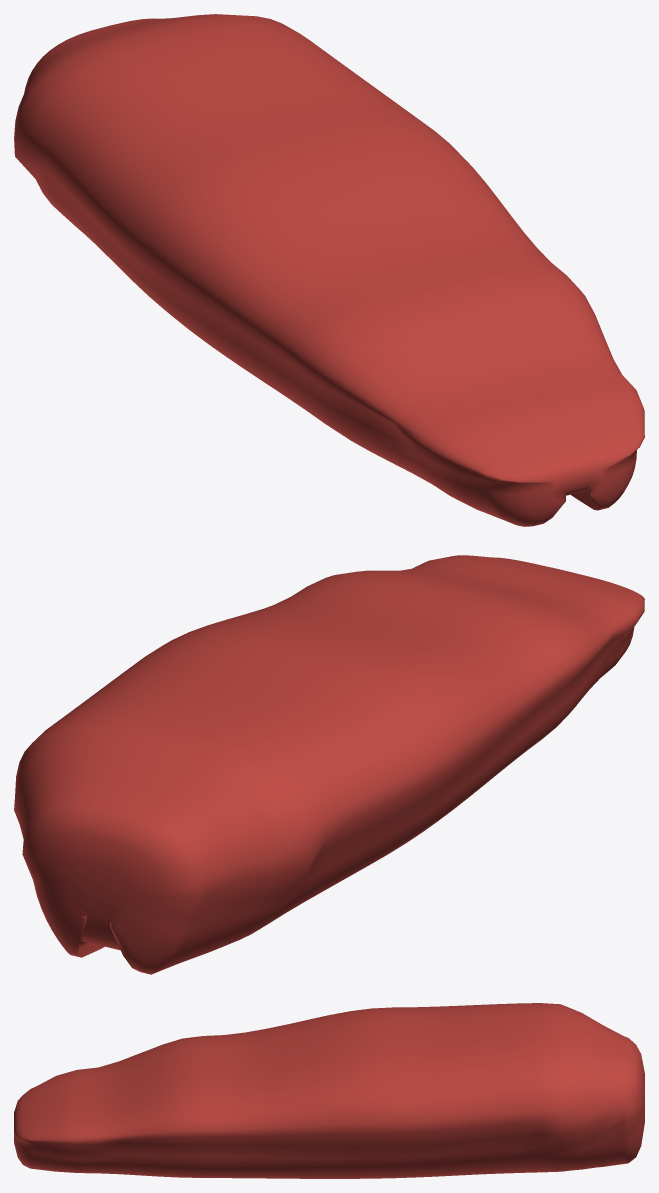
File: fatbob.glb
The picture shows the model from 3 angles, top to bottom: view 1: azimuth 30°, elevation 25°; view 2: azimuth 150°, elevation 25°; view 3: azimuth 270°, elevation 25°; orthographic projection. The views are drawn at different scales.
Parts seen in each view (by area): view 1: lod0; view 2: lod0; view 3: lod0.
Boxes of the visible parts, x1=… form: lod0: x1=14, y1=14, x2=644, y2=526; lod0: x1=14, y1=555, x2=644, y2=974; lod0: x1=14, y1=1003, x2=644, y2=1178.
Size of what is drawn, in the model's own units: 0.3886 by 0.2283 by 1.
